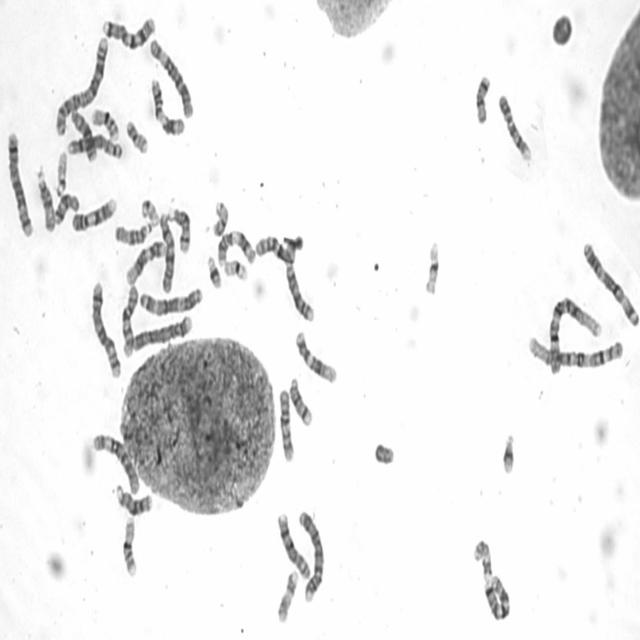A1: (546, 291, 604, 376), (525, 330, 624, 372)
A2: (54, 34, 110, 138), (254, 236, 316, 324)
A3: (580, 238, 640, 328), (138, 284, 203, 318)
B4: (296, 507, 325, 604), (129, 311, 194, 354)
B5: (89, 276, 122, 380), (5, 128, 34, 239)
C10: (119, 280, 139, 359), (277, 384, 296, 465)
C11: (148, 75, 186, 139), (215, 226, 257, 269)
C12: (292, 327, 338, 386), (123, 236, 167, 287)
C6: (148, 34, 195, 120), (91, 428, 140, 495)
C7: (100, 13, 156, 50), (481, 572, 512, 622)
C8: (276, 508, 312, 580), (64, 131, 124, 161)
C9: (497, 90, 532, 162), (70, 192, 117, 234)
D13: (71, 107, 97, 163), (114, 480, 152, 516)
D14: (287, 374, 313, 428), (170, 204, 191, 255)
D15: (35, 165, 56, 233), (112, 218, 154, 247)
E16: (120, 512, 138, 578), (90, 105, 120, 142)
E17: (275, 567, 299, 625), (472, 536, 494, 582)
E18: (52, 189, 80, 226), (473, 71, 492, 125)
F19: (423, 236, 441, 298), (222, 256, 249, 283)
F20: (124, 116, 150, 156), (211, 197, 230, 239)
G21: (499, 428, 516, 476), (205, 252, 222, 290)
G22: (54, 147, 68, 199), (139, 195, 160, 227)
X: (158, 210, 176, 295)
Y: (372, 437, 396, 467)
